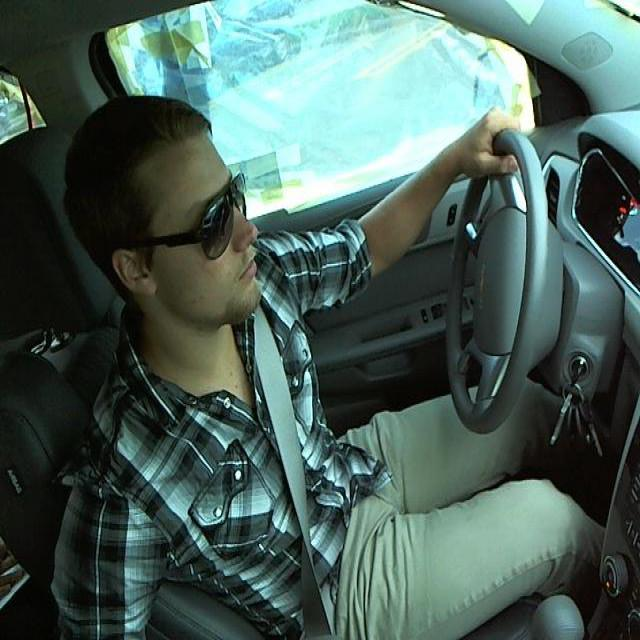seatbelt: (245, 322, 338, 614)
